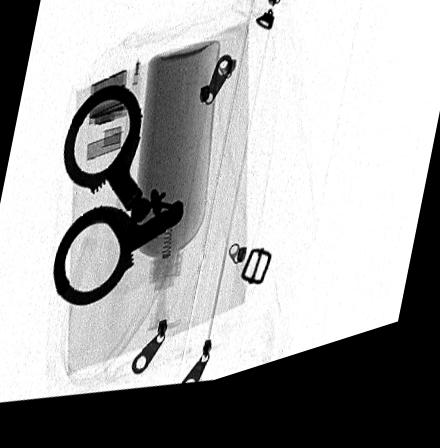HandCuffs: (53, 91, 184, 310)
